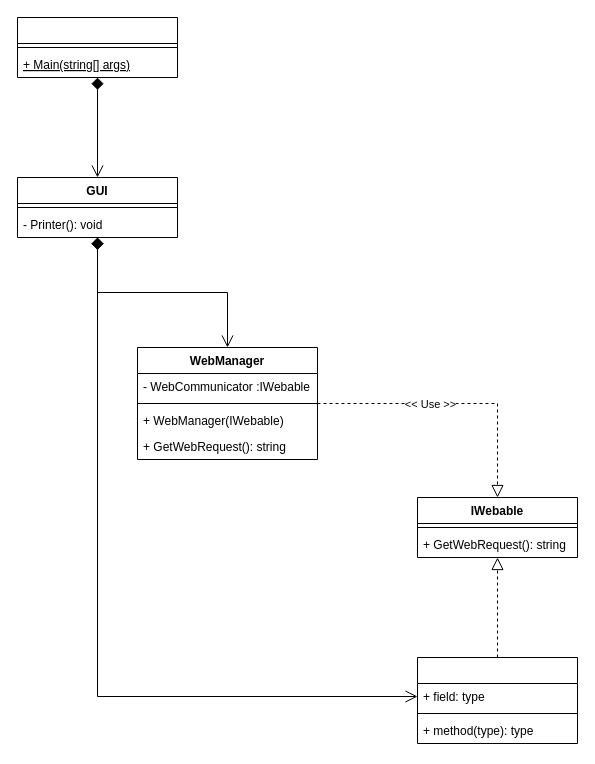
Some shapes in this 595 by 764 pixel diagram are drawn without their labels. The shapes that lost their labels are listed below. From the top down, each one's box as (x1, y1, x2, y2) in pixels, then its label:
(16, 16, 178, 78): Program
(416, 656, 578, 744): Communicator
